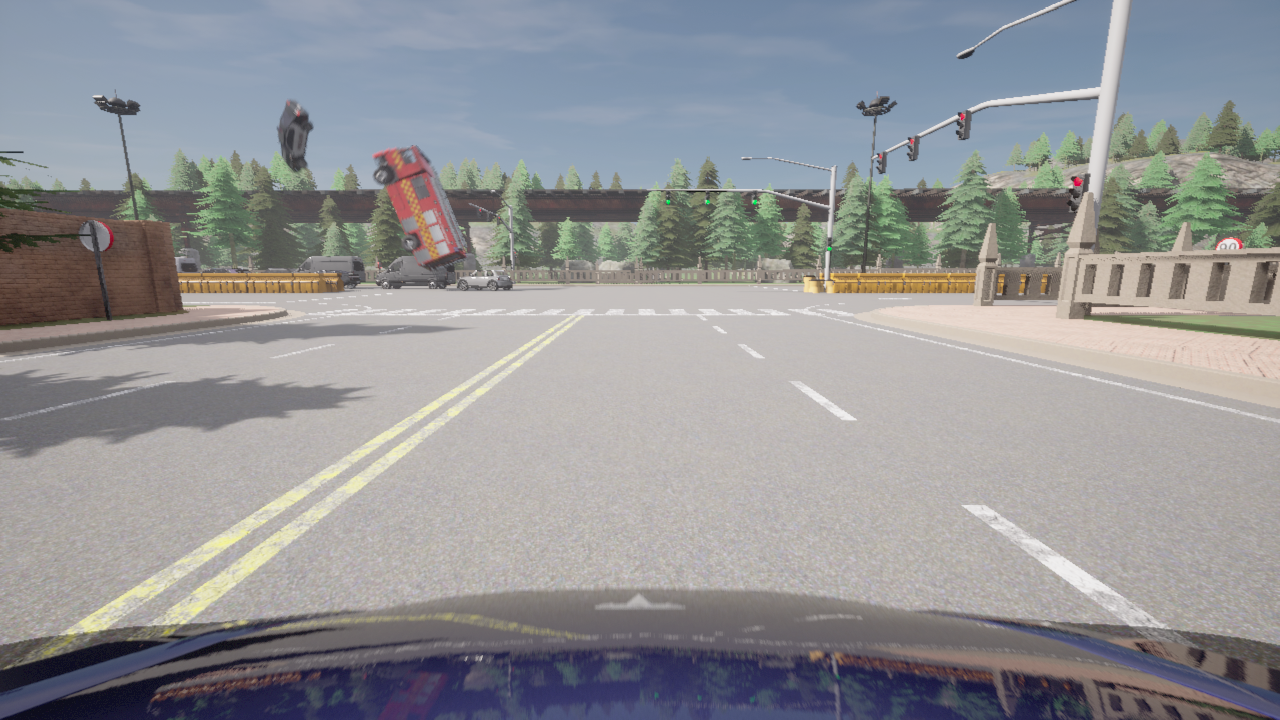cyclist: (0, 588, 1279, 719), (373, 145, 467, 271), (375, 256, 455, 289), (277, 100, 313, 172), (292, 256, 365, 282), (457, 270, 512, 290), (314, 270, 360, 288), (175, 258, 198, 272), (201, 268, 250, 272), (263, 268, 296, 272)
